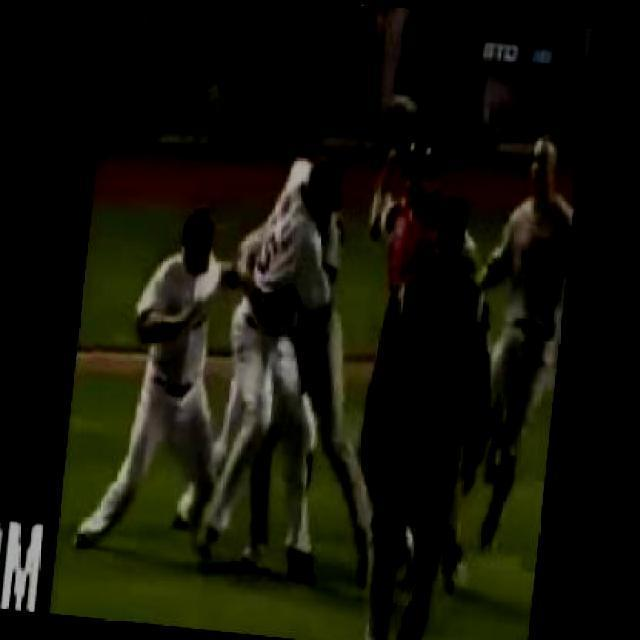fight: (110, 138, 358, 578)
